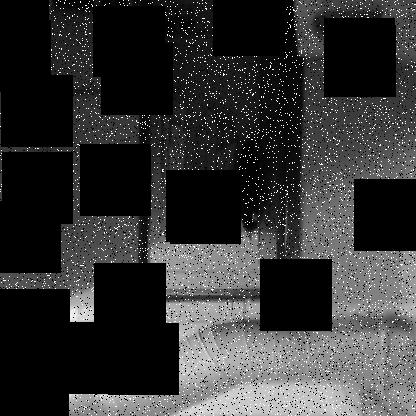Porte: (129, 1, 306, 292)
